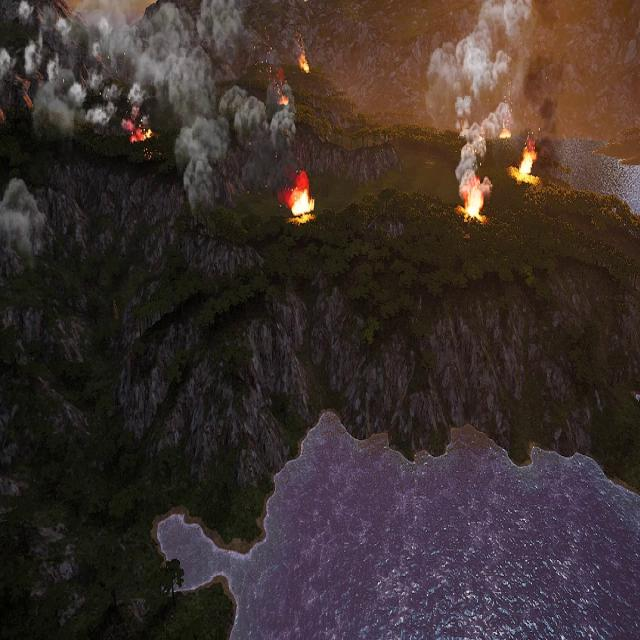fire: (290, 173, 314, 217), (512, 147, 538, 183), (462, 185, 484, 218), (127, 121, 153, 146), (300, 55, 311, 74), (498, 129, 511, 140), (278, 96, 288, 106)
smoke: (3, 0, 299, 214), (426, 0, 536, 193), (0, 177, 48, 261)
